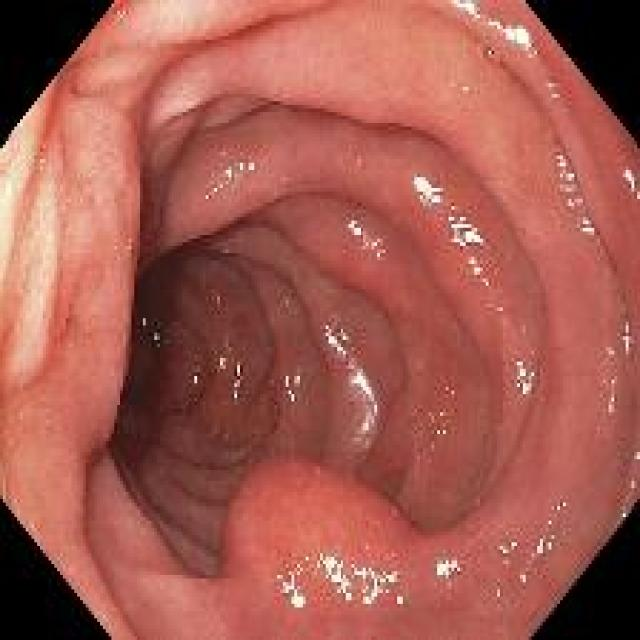Polyps: (214, 462, 570, 640)
